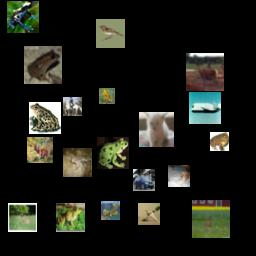airplane: (189, 92, 221, 124), (101, 201, 120, 220)
automobile: (133, 169, 155, 191)
bird: (96, 19, 125, 48), (99, 88, 115, 104)
cat: (139, 112, 174, 147)
deer: (192, 200, 230, 238), (186, 53, 224, 91), (8, 203, 37, 232), (27, 137, 53, 163)
dog: (138, 203, 160, 225), (168, 165, 190, 187)
frog: (24, 46, 62, 84), (97, 137, 129, 169), (7, 1, 39, 33), (29, 102, 61, 134), (63, 148, 92, 177), (56, 203, 85, 232), (210, 132, 229, 151)
